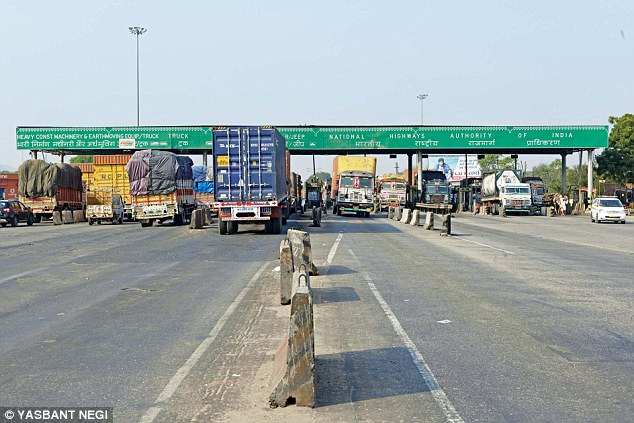toll plaza: (294, 116, 594, 217)
